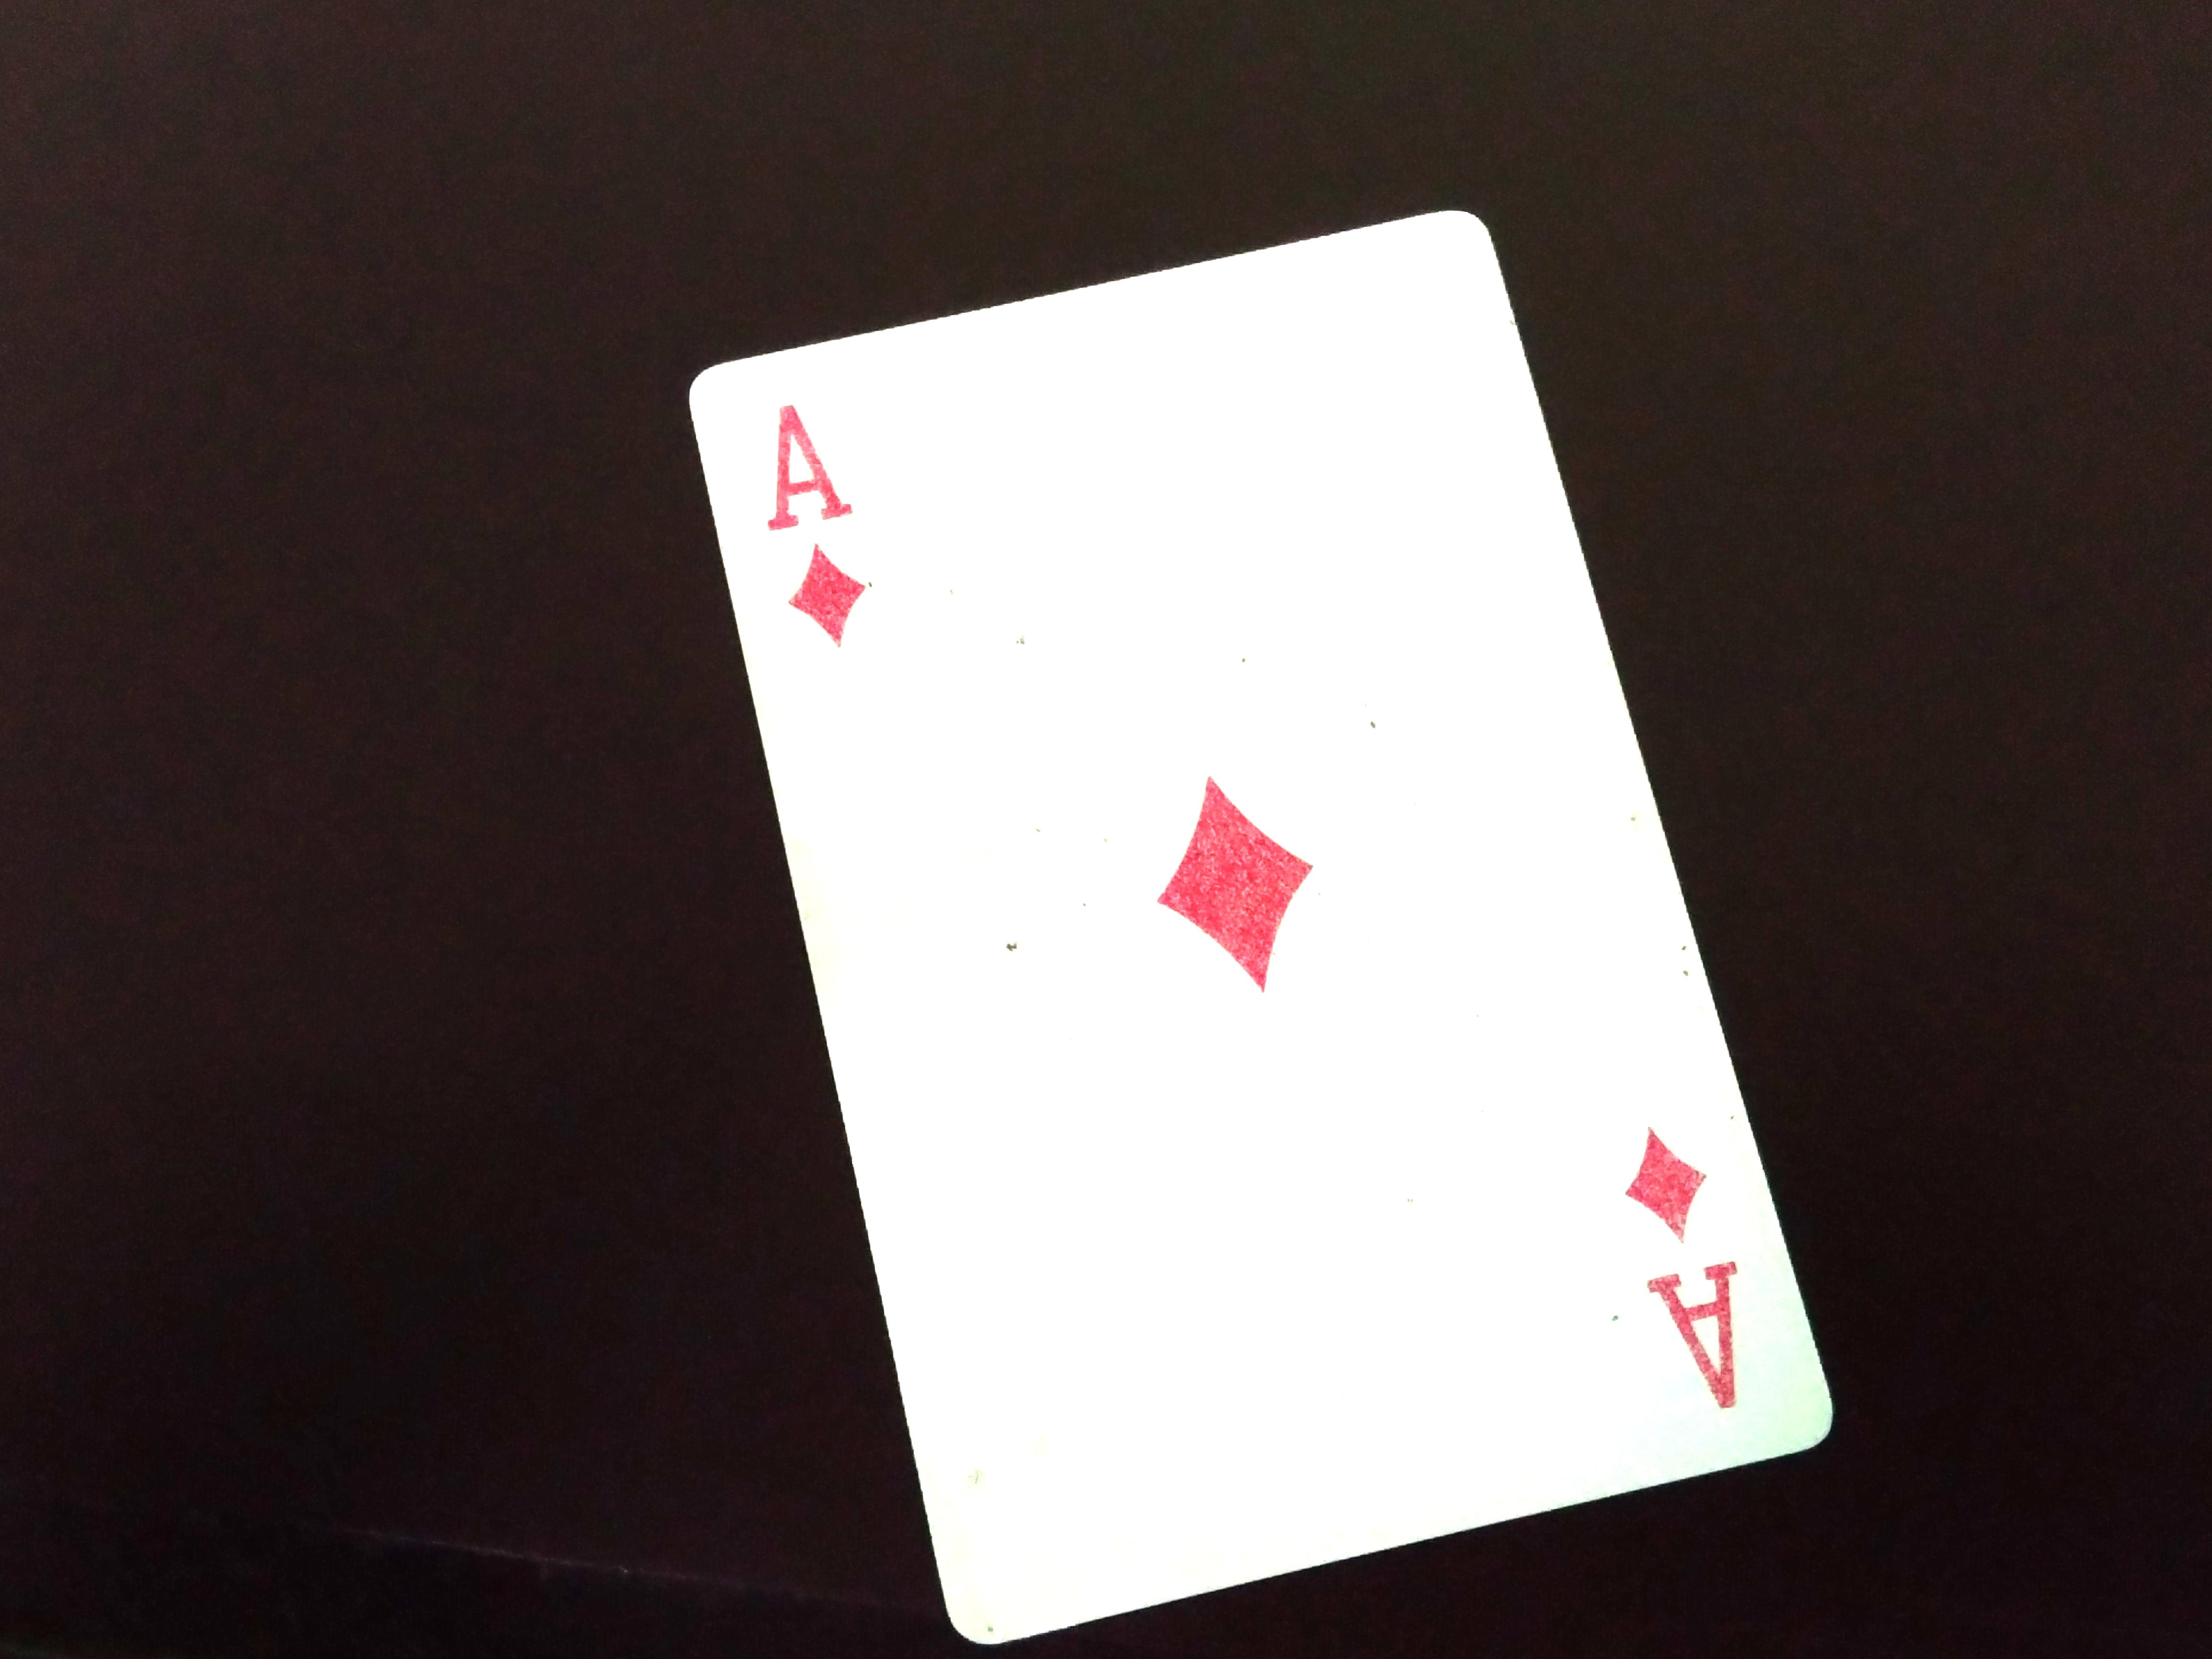AD: (1609, 1115, 1770, 1432)
